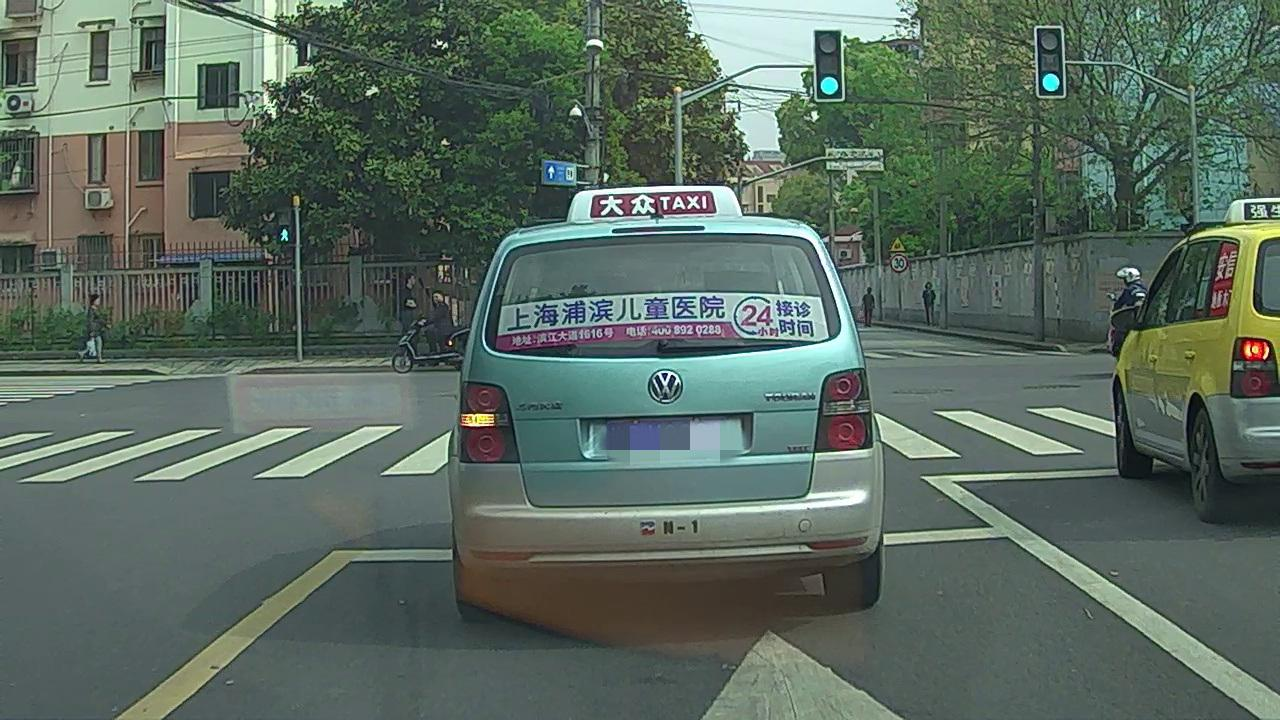traffic_light: (813, 29, 845, 99), (1036, 30, 1065, 97)
